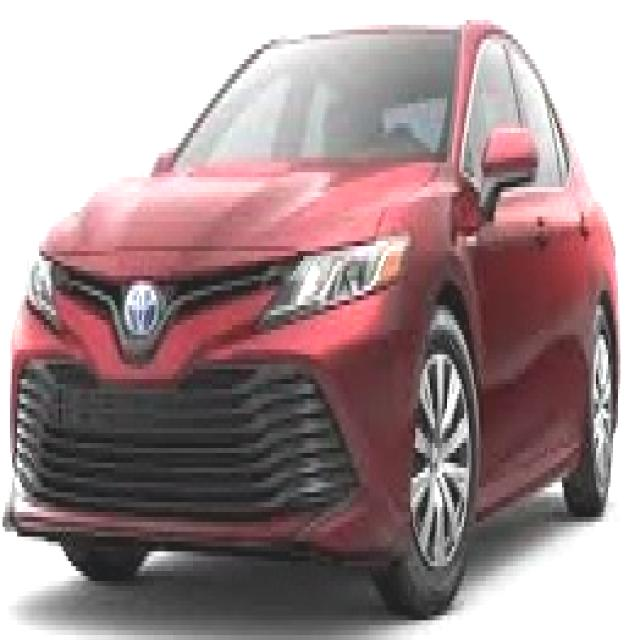maroon: (11, 22, 624, 546)
